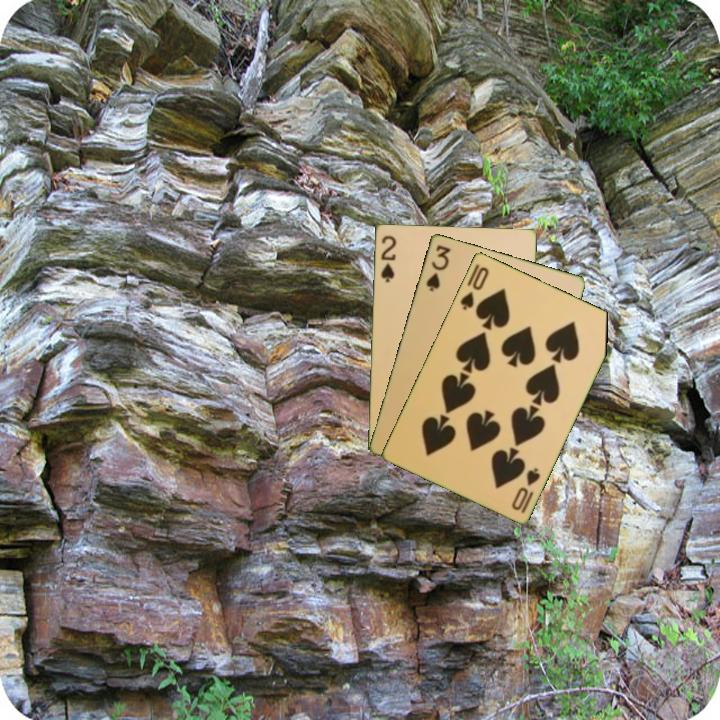10s: (508, 464, 543, 516), (457, 263, 492, 313)
2s: (377, 232, 398, 285)
3s: (422, 241, 453, 294)
